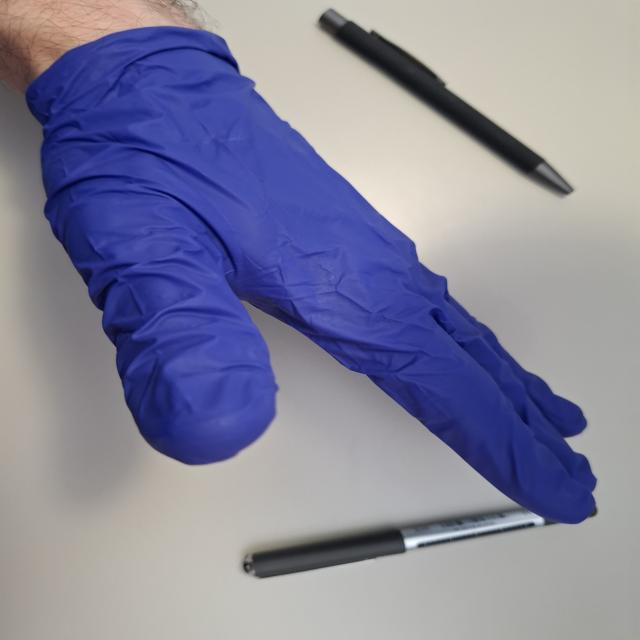glove_on: (21, 18, 601, 523)
